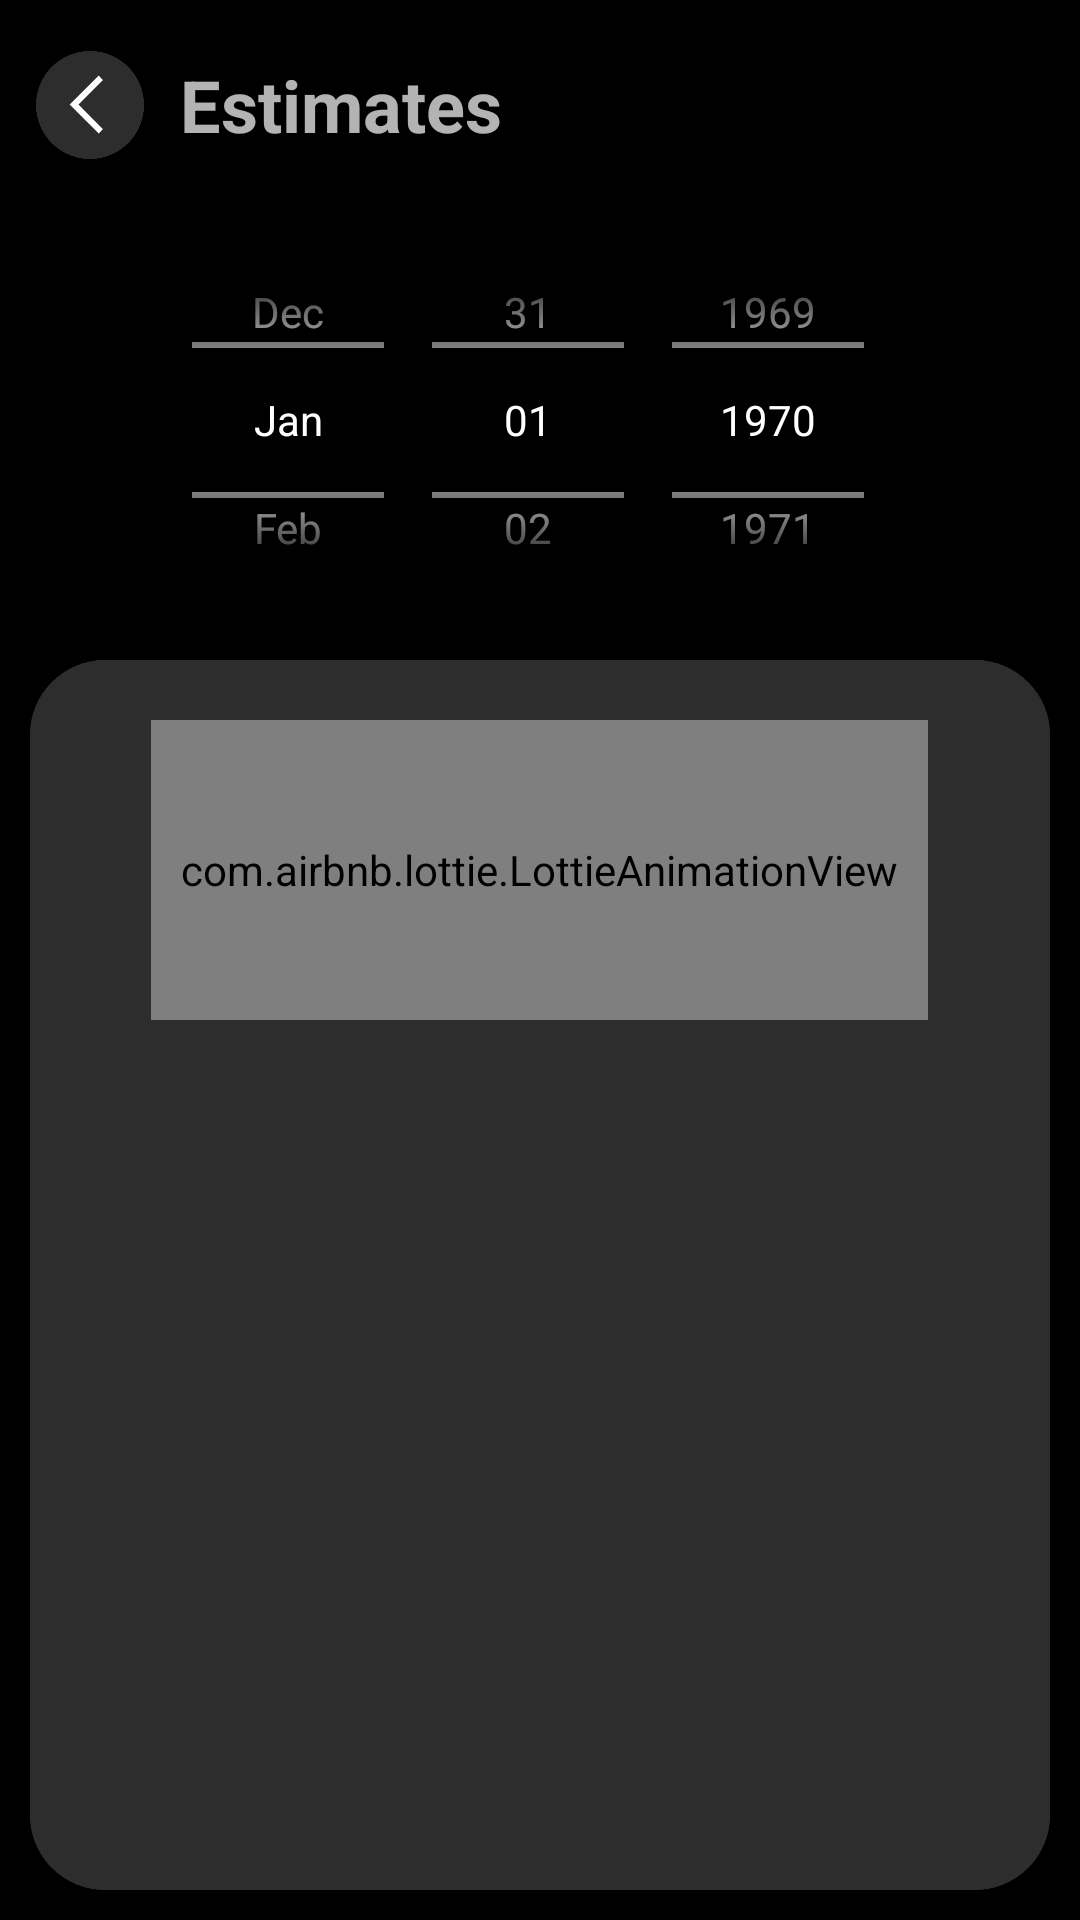

Where to tap for icons on this 1080*1920 app screen, as (x=x, y=y):
back: (x=90, y=105)
